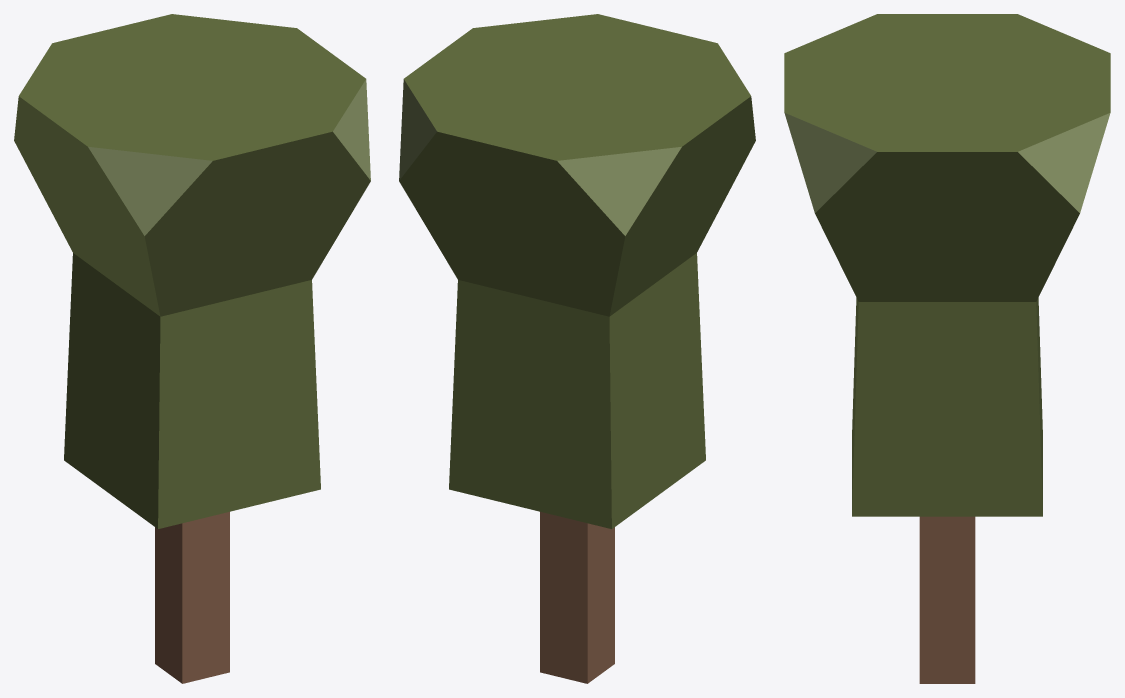
File: voxel_tree_1.fbx
3 views of the same model, side by side, from view 1: azimuth 30°, elevation 25°; view 2: azimuth 150°, elevation 25°; view 3: azimuth 270°, elevation 25° (orthographic).
Visible parts, largest first — view 1: voxel_tree_1; view 2: voxel_tree_1; view 3: voxel_tree_1.
Part boxes in pixels (x1,y1,x2,y2): voxel_tree_1: [14, 14, 370, 683]; voxel_tree_1: [399, 14, 755, 683]; voxel_tree_1: [784, 14, 1110, 683].
Bounding box in the file's own units: 264 × 525 × 264.
